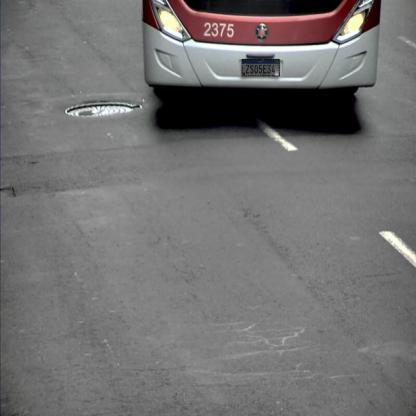PlacaM: (242, 59, 280, 76)
